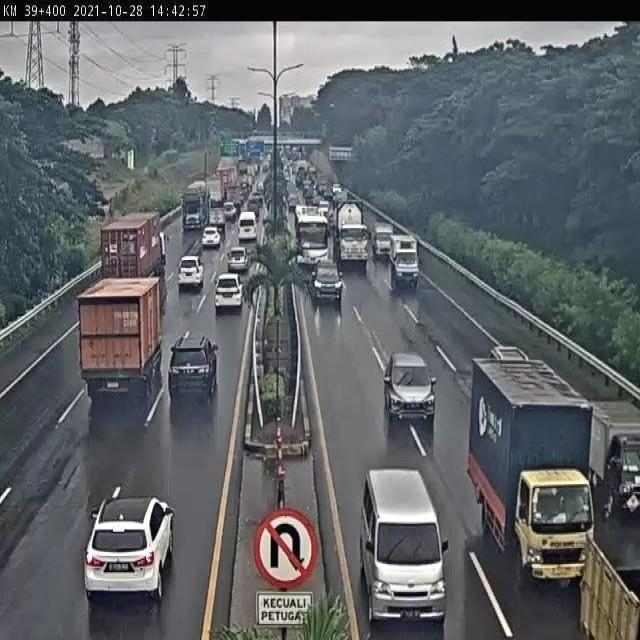Bus: (292, 204, 331, 266)
Car: (82, 496, 175, 604), (383, 352, 437, 427), (168, 335, 216, 402), (310, 259, 344, 305), (214, 273, 244, 311), (176, 256, 204, 287), (226, 245, 250, 272), (202, 226, 221, 248), (222, 202, 237, 222)
Truck: (465, 356, 600, 588), (76, 277, 166, 396), (588, 400, 640, 520), (98, 210, 170, 280), (330, 198, 370, 266), (388, 232, 423, 290), (181, 179, 212, 232), (371, 220, 394, 258), (207, 175, 226, 208), (222, 183, 242, 210), (214, 165, 237, 186), (208, 206, 227, 231), (237, 160, 247, 172)
Van: (358, 467, 450, 631), (236, 210, 258, 243)
